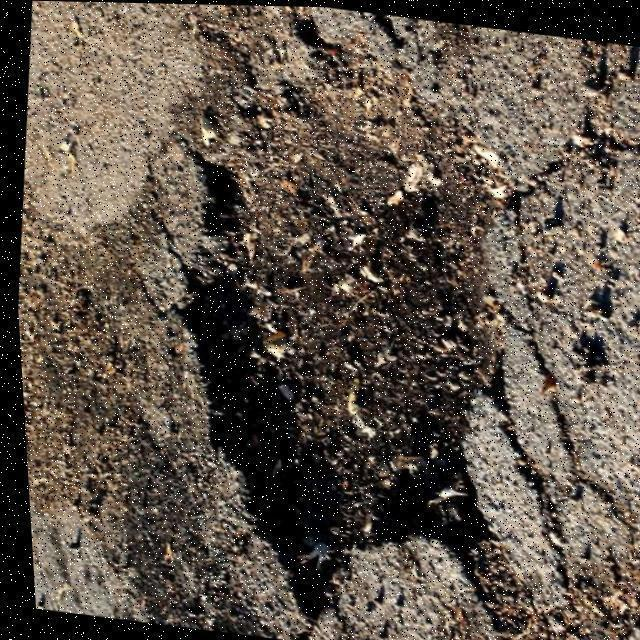Pothole: (167, 24, 548, 634)
